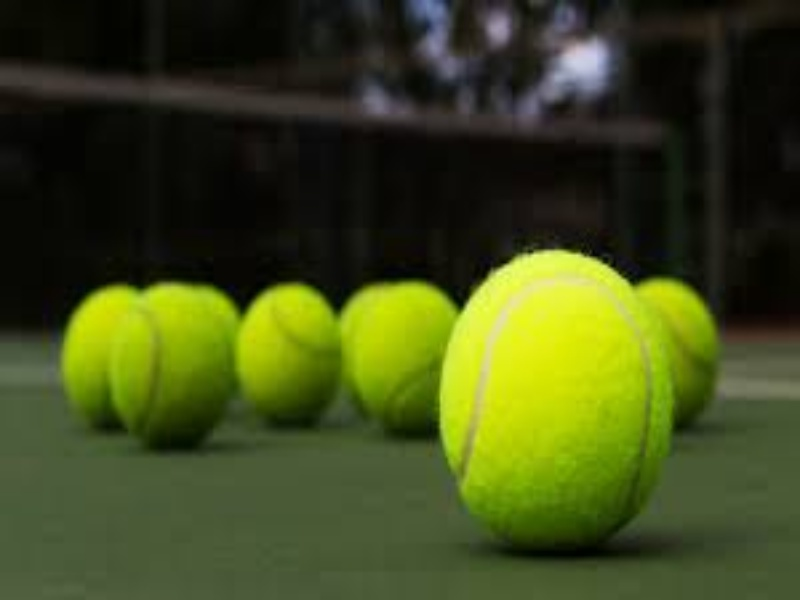tennis ball: (433, 233, 688, 545), (103, 286, 236, 457), (628, 257, 735, 457), (341, 273, 454, 449), (228, 279, 348, 434), (57, 280, 129, 443)
